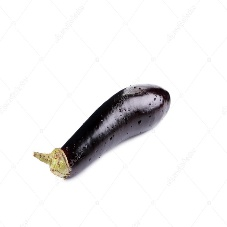eggplant: (56, 85, 171, 182)
